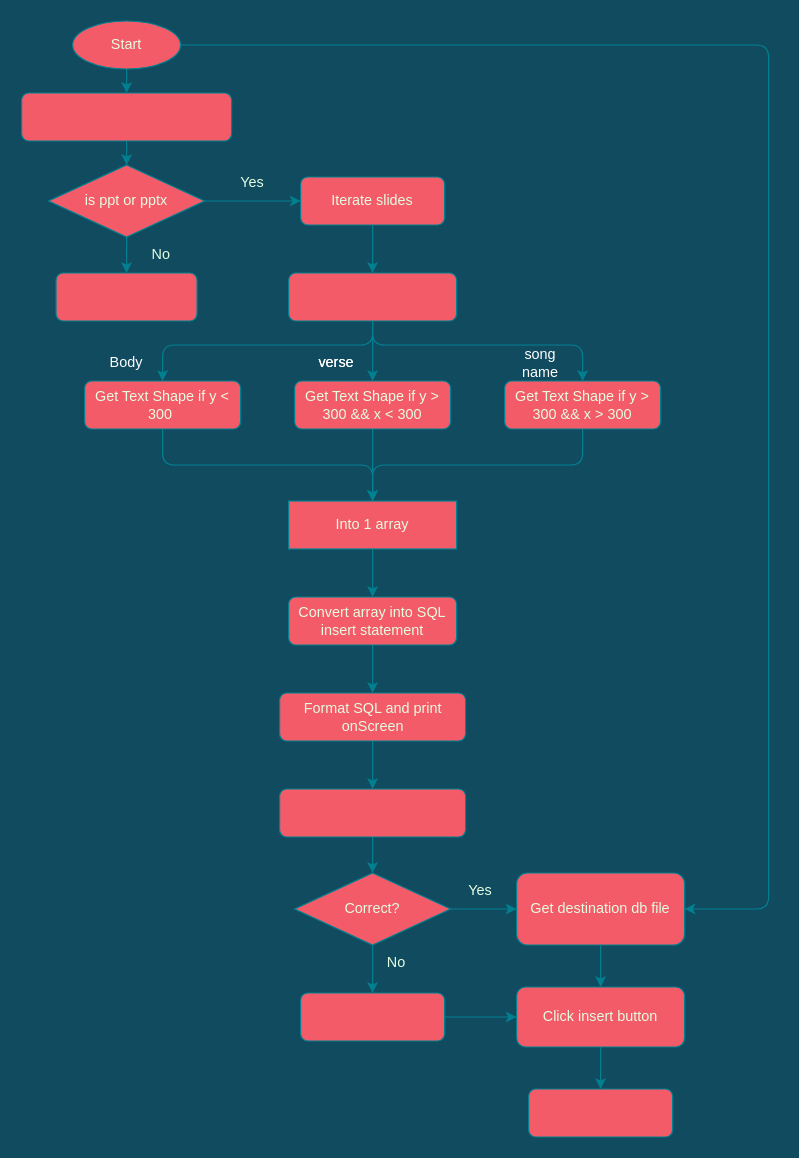
Image size: 799x1158. Some labels were removed from this diagram. The shapes that lost their labels are listed below. From the top down, each one's centre as x and y in pixels, then its label:
point 126,116: Get PPT directory
point 126,296: Warning Message
point 372,296: Get slides size
point 372,812: Check SQL format
point 372,1016: Edit SQL on screen
point 600,1112: Get return message
